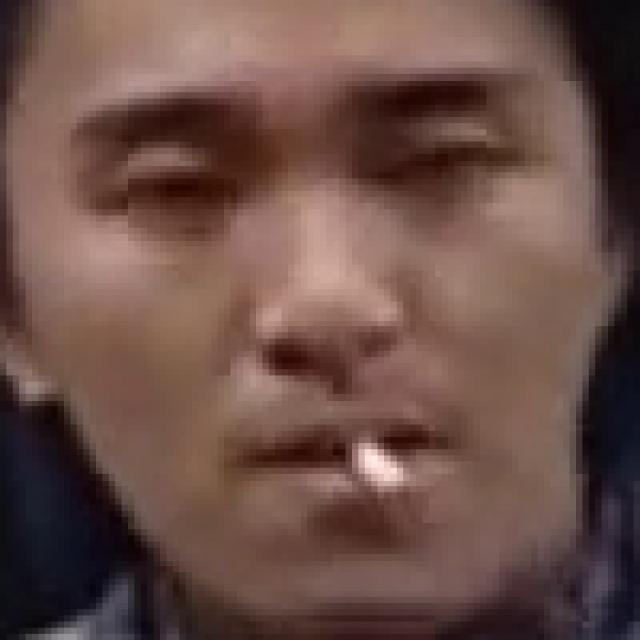cigarette: (320, 394, 422, 530)
